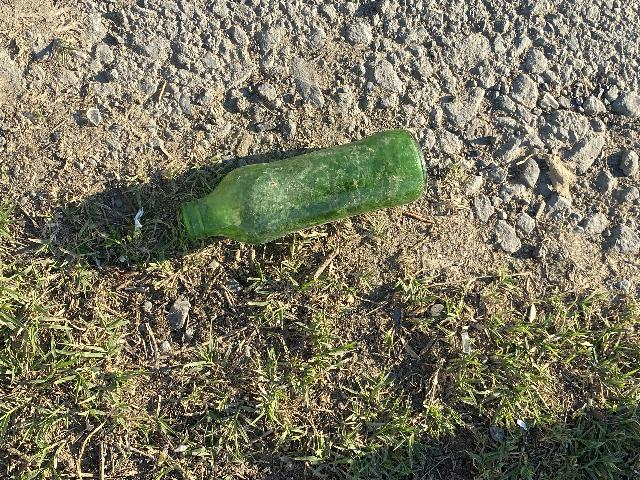Cam: (180, 127, 431, 247)
